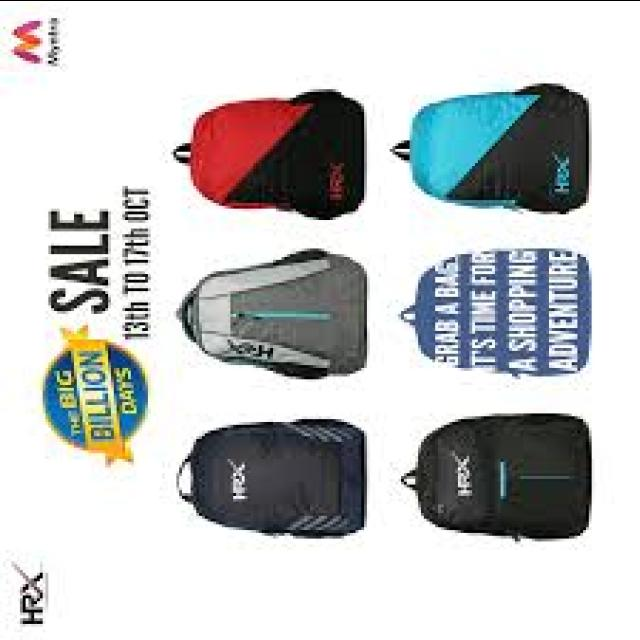backpack: (391, 84, 590, 218), (174, 249, 368, 383), (399, 414, 593, 545), (172, 92, 366, 223), (175, 419, 365, 542)
